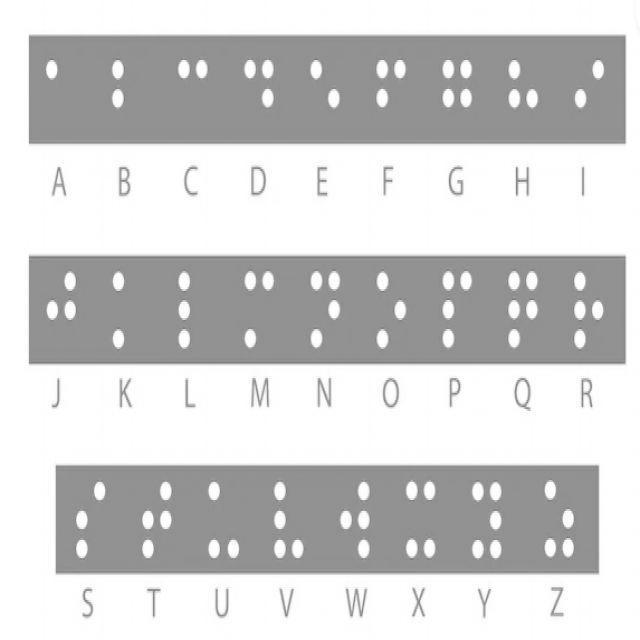A: (31, 34, 93, 144)
B: (100, 33, 158, 144)
C: (168, 36, 216, 138)
D: (235, 33, 282, 138)
E: (300, 38, 350, 142)
F: (370, 40, 418, 144)
G: (434, 36, 482, 142)
H: (497, 32, 550, 146)
I: (562, 31, 614, 142)
J: (34, 256, 86, 360)
K: (101, 258, 156, 358)
L: (168, 254, 220, 364)
M: (234, 256, 282, 362)
N: (301, 258, 348, 358)
O: (368, 256, 416, 356)
P: (432, 254, 482, 360)
Q: (499, 252, 548, 366)
R: (566, 258, 612, 364)
S: (67, 465, 116, 573)
T: (132, 465, 182, 571)
U: (200, 464, 247, 576)
V: (262, 462, 312, 573)
W: (332, 463, 382, 572)
X: (396, 467, 446, 573)
Y: (464, 465, 512, 571)
Z: (536, 467, 581, 573)
